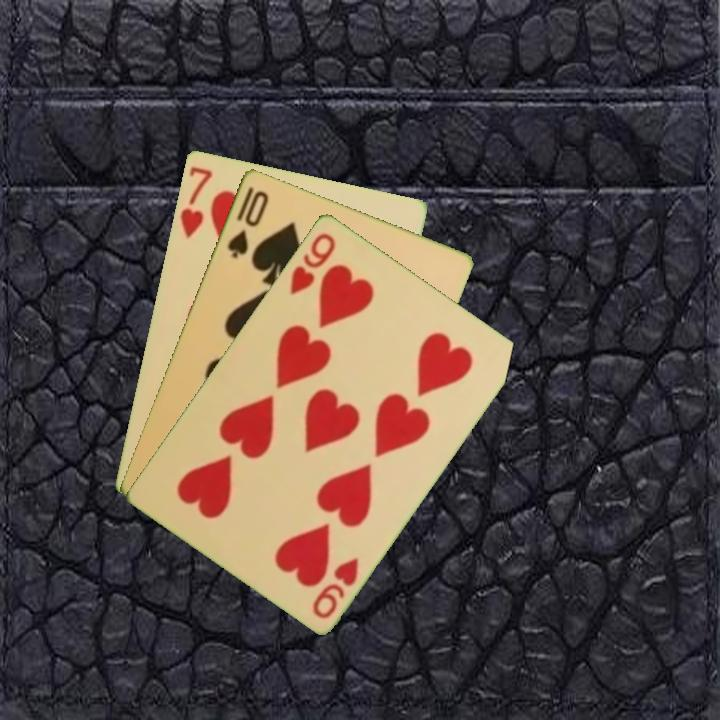10s: (223, 186, 272, 261)
7h: (176, 162, 215, 240)
9h: (286, 228, 339, 298), (308, 553, 362, 621)
